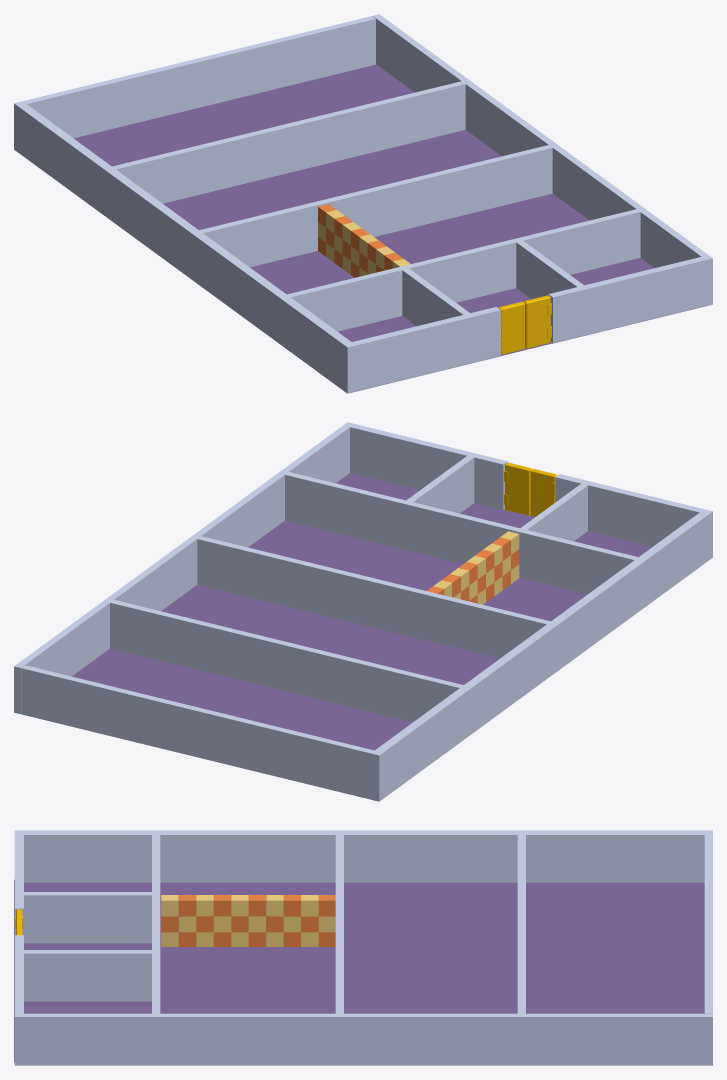
Rendered from maps57.fbx.
3 views of the same model, one above another, from view 1: azimuth 30°, elevation 25°; view 2: azimuth 150°, elevation 25°; view 3: azimuth 270°, elevation 25° (orthographic). The views are drawn at different scales.
Parts seen in each view (by area): view 1: wall_01_08_geo, wall_01_07_geo, wall_01_09_geo23, wall_01_09_geo19, wall_01_09_geo24, wall_01_09_geo25, wall_01_06_geo1, wall_01_05_geo1, wall_01_05_geo, wall_01_09_geo22, wall_01_09_geo26, polySurface165 (+1 smaller); view 2: wall_01_08_geo, wall_01_07_geo, wall_01_09_geo19, wall_01_09_geo24, wall_01_09_geo23, wall_01_09_geo25, wall_01_06_geo1, wall_01_05_geo1, wall_01_05_geo, wall_01_09_geo22, wall_01_09_geo26, polySurface165 (+1 smaller); view 3: wall_01_08_geo, wall_01_06_geo1, wall_01_07_geo, wall_01_09_geo22, wall_01_09_geo26, wall_01_09_geo19, wall_01_09_geo23, wall_01_09_geo24, wall_01_09_geo25, wall_01_05_geo, wall_01_05_geo1, wall_02_0136_geo1 (+9 smaller).
Boxes of the visible parts, <box> form: wall_01_08_geo: <box>74,64,707,392</box>; wall_01_07_geo: <box>14,101,356,393</box>; wall_01_09_geo23: <box>112,81,465,203</box>; wall_01_09_geo19: <box>23,16,375,138</box>; wall_01_09_geo24: <box>199,145,552,267</box>; wall_01_09_geo25: <box>287,209,640,331</box>; wall_01_06_geo1: <box>373,14,712,305</box>; wall_01_05_geo1: <box>548,257,706,343</box>; wall_01_05_geo: <box>352,307,500,391</box>; wall_01_09_geo22: <box>516,241,583,299</box>; wall_01_09_geo26: <box>402,268,469,326</box>; polySurface165: <box>524,295,551,348</box>; wall_01_08_geo: <box>72,473,652,750</box>; wall_01_07_geo: <box>370,509,712,801</box>; wall_01_09_geo19: <box>21,665,374,799</box>; wall_01_09_geo24: <box>197,536,550,658</box>; wall_01_09_geo23: <box>110,600,463,722</box>; wall_01_09_geo25: <box>285,472,638,594</box>; wall_01_06_geo1: <box>14,422,353,714</box>; wall_01_05_geo1: <box>350,424,507,509</box>; wall_01_05_geo: <box>555,474,703,546</box>; wall_01_09_geo22: <box>406,456,474,513</box>; wall_01_09_geo26: <box>520,483,587,541</box>; polySurface165: <box>504,462,532,515</box>; wall_01_08_geo: <box>14,879,704,1062</box>; wall_01_06_geo1: <box>14,1013,712,1065</box>; wall_01_07_geo: <box>14,830,712,882</box>; wall_01_09_geo22: <box>23,950,151,1001</box>; wall_01_09_geo26: <box>24,892,151,943</box>; wall_01_09_geo19: <box>704,835,712,1013</box>; wall_01_09_geo23: <box>517,835,525,1013</box>; wall_01_09_geo24: <box>335,835,343,1013</box>; wall_01_09_geo25: <box>152,835,160,1013</box>; wall_01_05_geo: <box>14,835,23,935</box>; wall_01_05_geo1: <box>14,935,23,1013</box>; wall_02_0136_geo1: <box>213,895,231,916</box>.
Bounding box in the file's own units: 73.34 × 8.96 × 116.
Materials: 3 (3 with a texture image).
